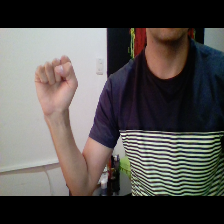9D: (26, 53, 81, 118)
